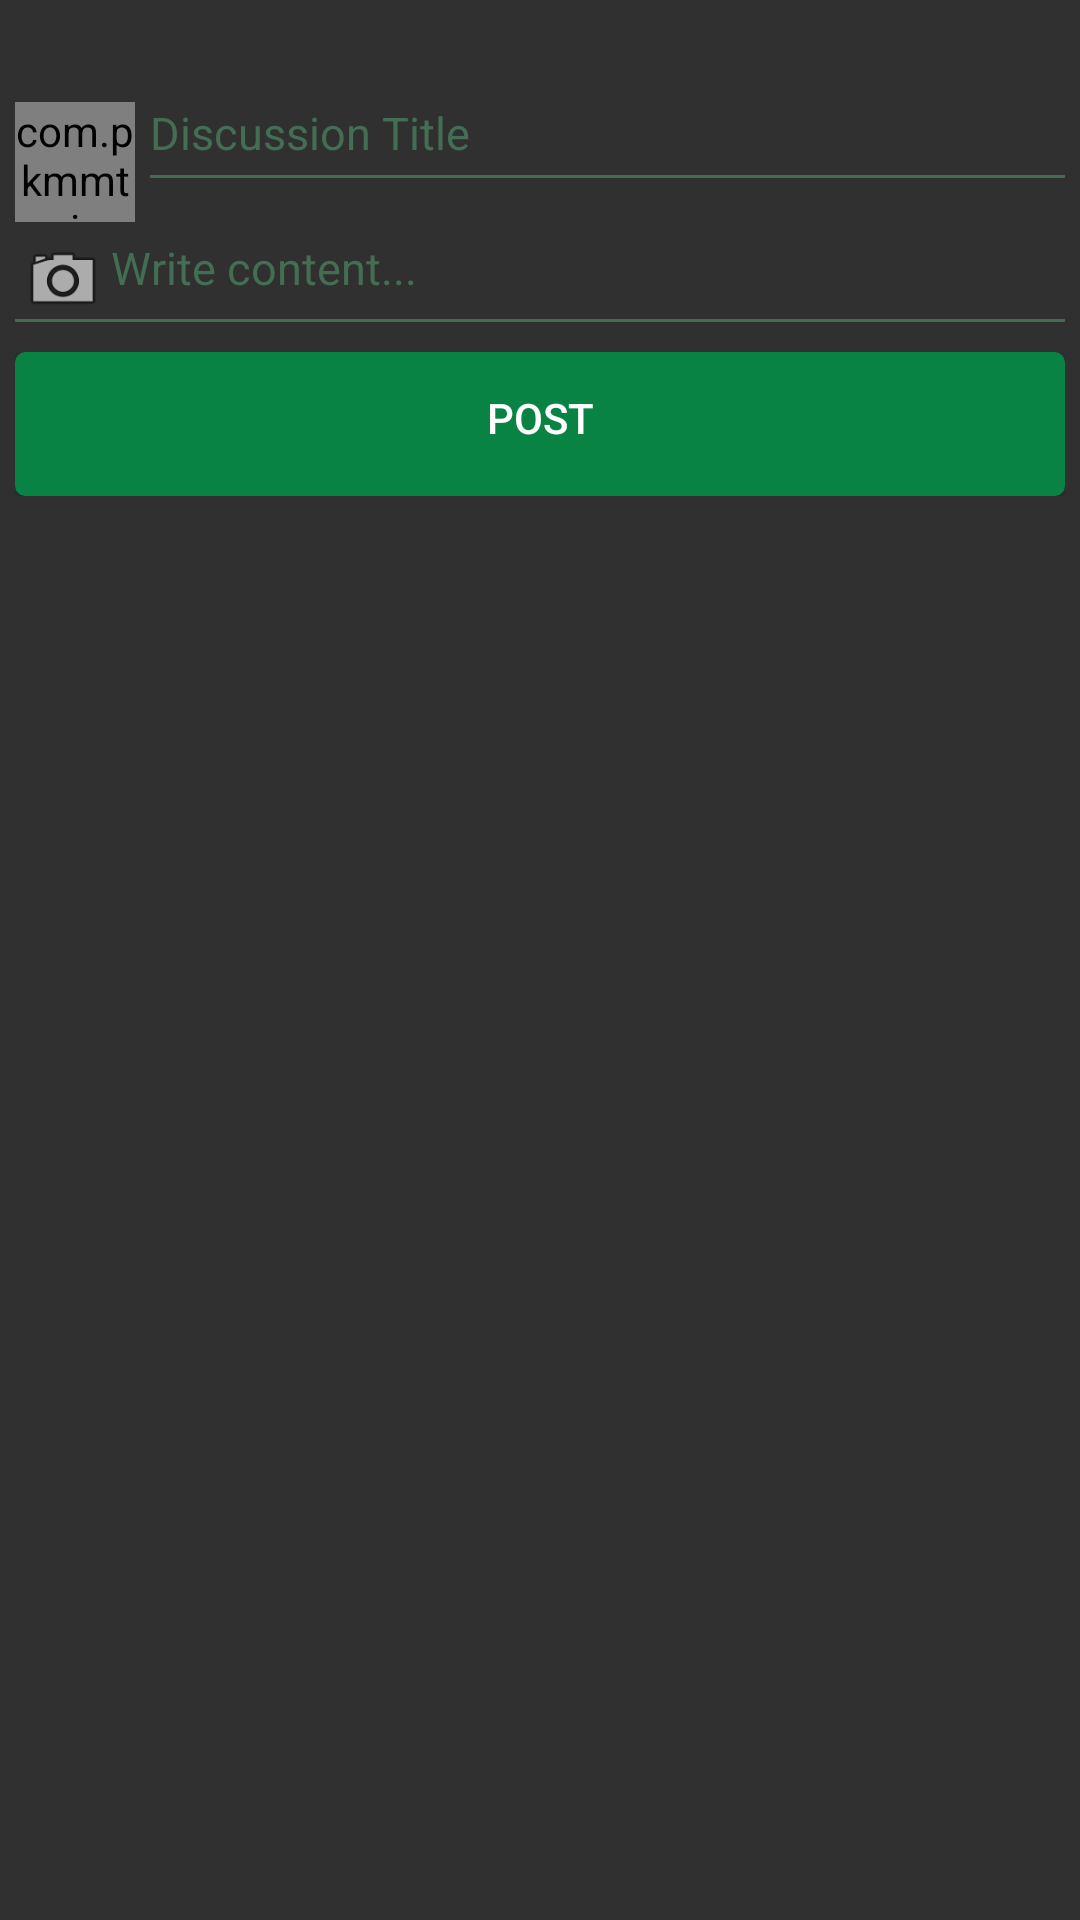

Where to tap for icons on this 1080×1920 app screen, as (x,y):
camera: (63,278)
